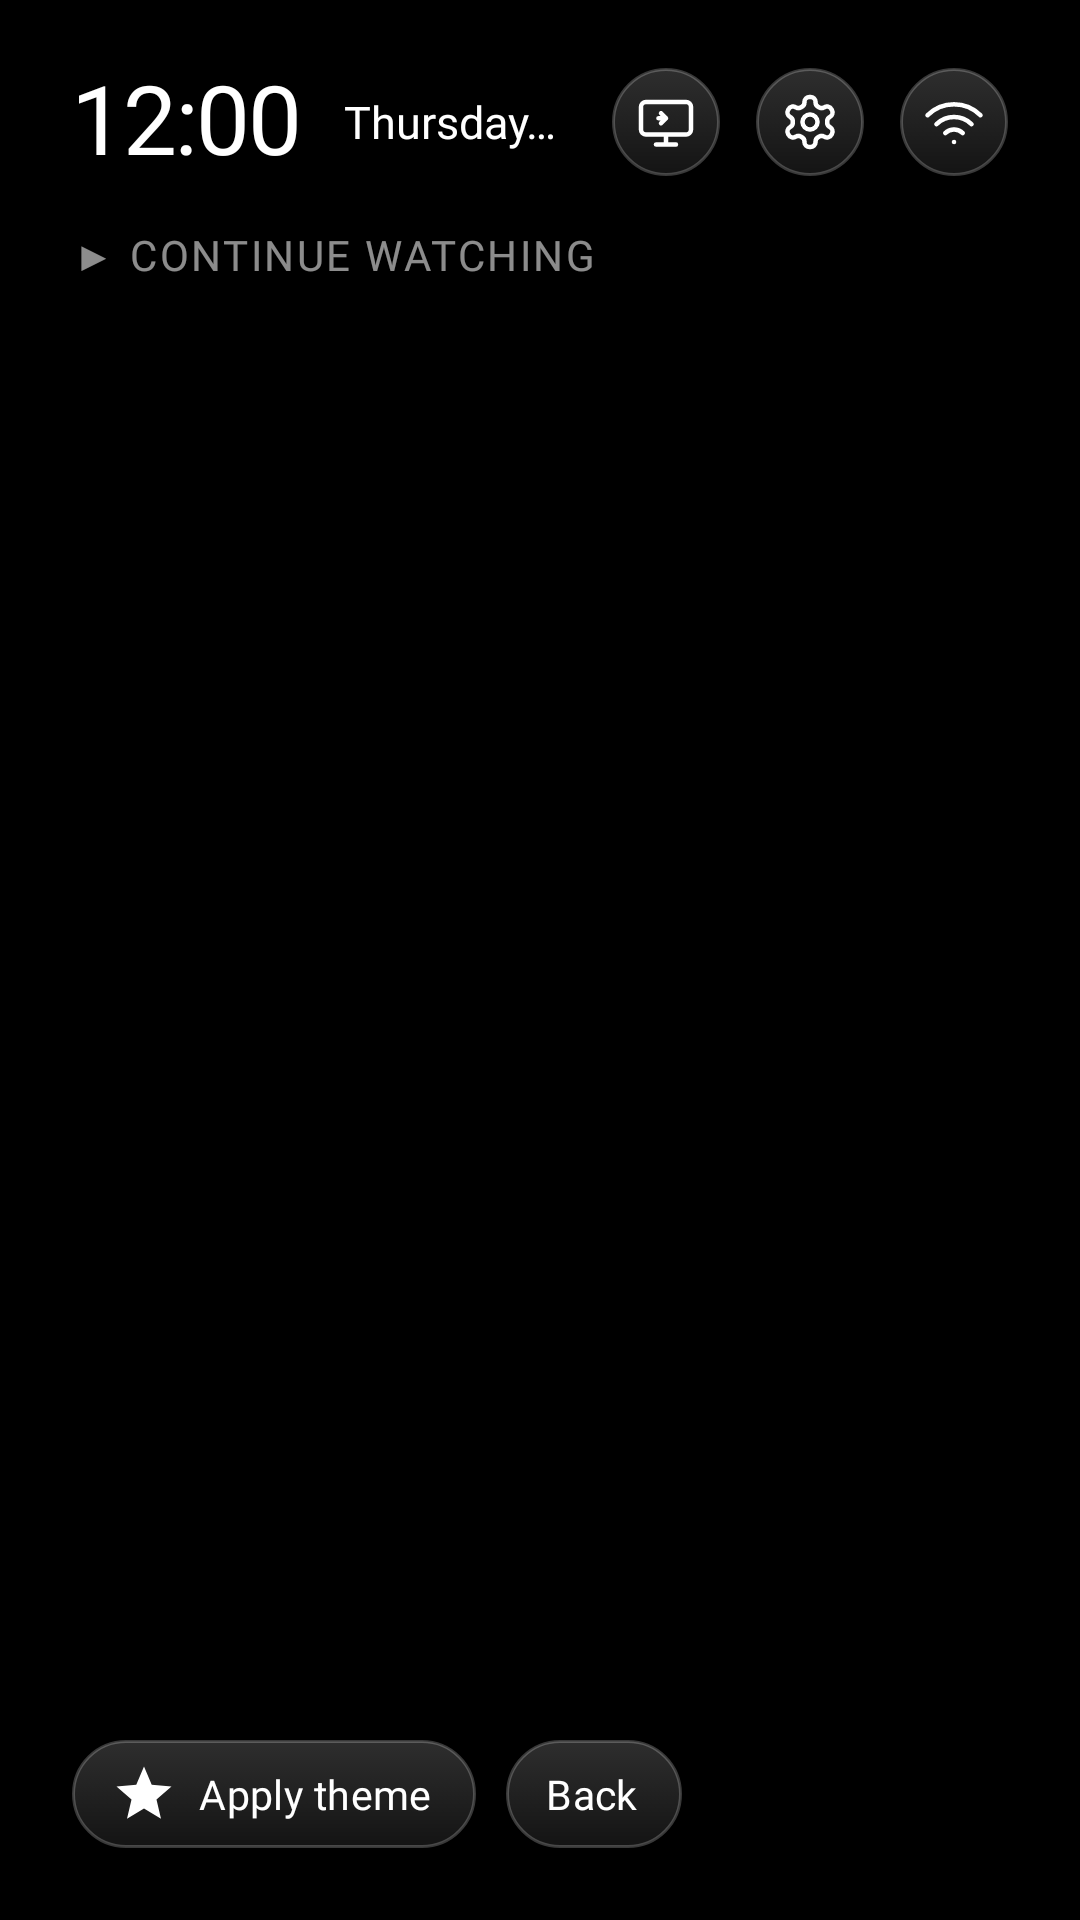

Icons on this 1080x1920 Android screen, each with the point to tap as (x,y):
input: (666,123)
settings: (810,122)
wifi: (954,123)
